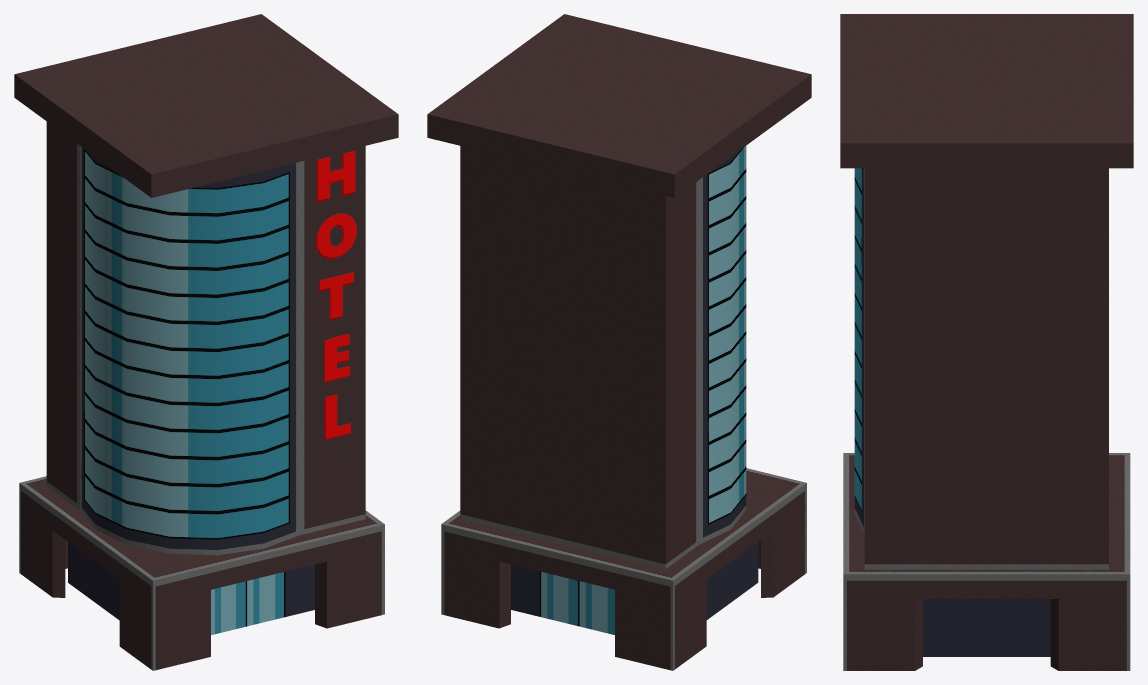
3 views of the same model, side by side, from view 1: azimuth 30°, elevation 25°; view 2: azimuth 150°, elevation 25°; view 3: azimuth 270°, elevation 25° (orthographic). The views are drawn at different scales.
Visible parts, largest first — view 1: TS8; view 2: TS8; view 3: TS8.
Boxes of the visible parts, x1=… form: TS8: x1=14, y1=14, x2=398, y2=670; TS8: x1=427, y1=14, x2=811, y2=670; TS8: x1=840, y1=14, x2=1133, y2=670.
Size of the model in its own units: 2000 by 3855 by 1921.
1 material, 1 textured.
